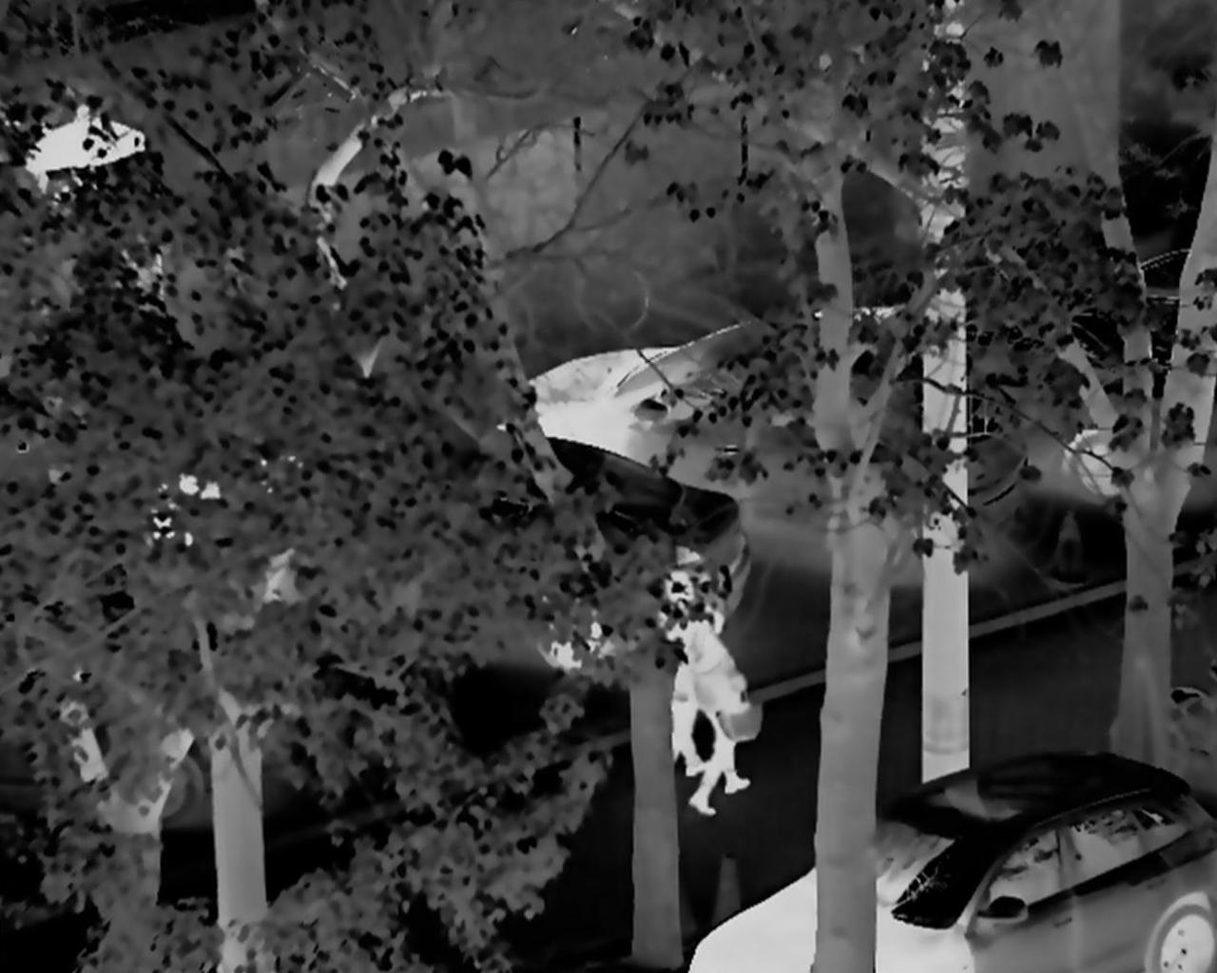person: (681, 613, 759, 814), (655, 555, 709, 778)
